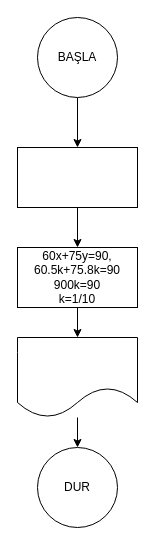
The diagram is 155 pixels wide and 545 high, and some of its shapes have lost their labels. Here are the shapes that lost their labels. From the top down, the centre of each, then its label:
At [77,177]: "40x=25y 8x=5y x=5k,y=8k".
At [77,377]: "400k=400*1/10 =40".
